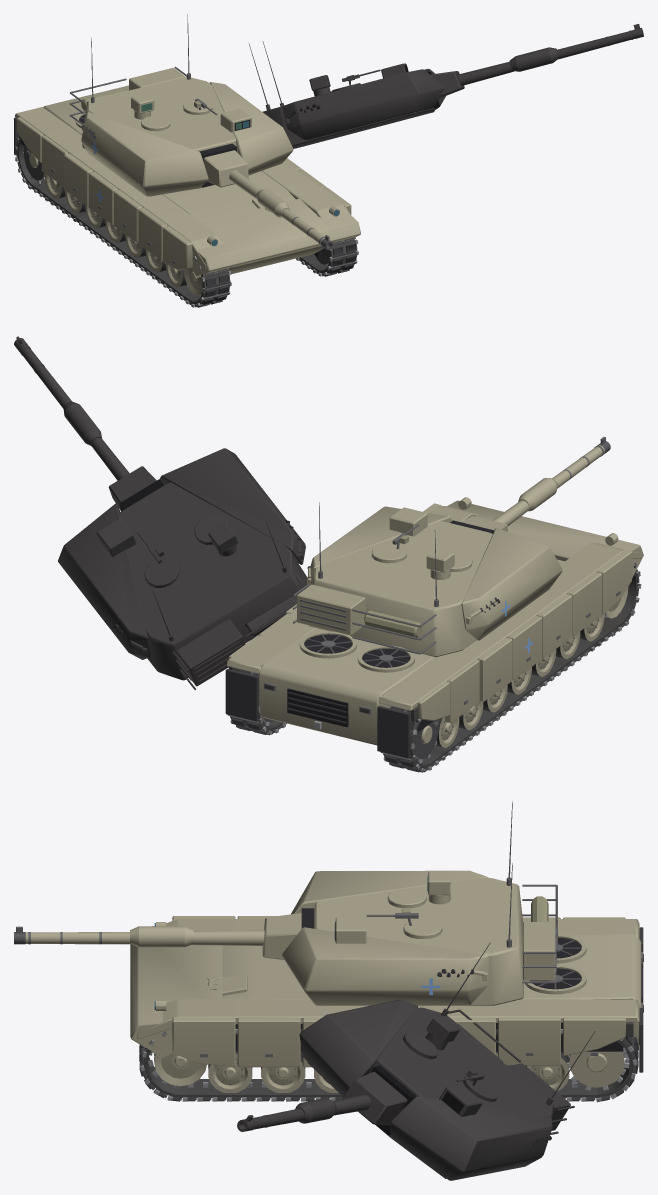
The model's file is tank__leopard_2ri.glb.
The picture shows the model from 3 angles, top to bottom: view 1: azimuth 30°, elevation 25°; view 2: azimuth 150°, elevation 25°; view 3: azimuth 270°, elevation 25°; orthographic projection. The views are drawn at different scales.
Parts seen in each view (by area): view 1: Hull_Mesh, Turret_Mesh, Wreck, Track_L_Mesh, Gun_Mesh, Track_R_Mesh, Gunner_Sight_Mesh, CITV_Mesh, Sprocket_L_Mesh; view 2: Wreck, Hull_Mesh, Turret_Mesh, Track_L_Mesh, Gun_Mesh, Gunner_Sight_Mesh, Track_R_Mesh, Hatch_Loader_Mesh, CITV_Mesh, Sprocket_L_Mesh; view 3: Hull_Mesh, Wreck, Turret_Mesh, Gun_Mesh, Track_R_Mesh, Sprocket_R_Mesh, Idler_R_Mesh, Wheel_R6_Mesh, Wheel_R5_Mesh, Hatch_Loader_Mesh, Gunner_Sight_Mesh, Wheel_R0_Mesh (+2 smaller).
Boxes of the visible parts, x1=… form: Hull_Mesh: x1=14, y1=85, x2=360, y2=277; Turret_Mesh: x1=69, y1=66, x2=293, y2=196; Wreck: x1=15, y1=24, x2=643, y2=307; Track_L_Mesh: x1=14, y1=136, x2=231, y2=307; Gun_Mesh: x1=204, y1=150, x2=333, y2=249; Track_R_Mesh: x1=296, y1=237, x2=358, y2=276; Gunner_Sight_Mesh: x1=220, y1=108, x2=251, y2=132; CITV_Mesh: x1=131, y1=94, x2=154, y2=119; Sprocket_L_Mesh: x1=23, y1=146, x2=45, y2=183; Wreck: x1=14, y1=336, x2=640, y2=772; Hull_Mesh: x1=225, y1=497, x2=643, y2=758; Turret_Mesh: x1=293, y1=506, x2=562, y2=657; Track_L_Mesh: x1=380, y1=564, x2=641, y2=772; Gun_Mesh: x1=461, y1=436, x2=610, y2=531; Gunner_Sight_Mesh: x1=389, y1=507, x2=427, y2=536; Track_R_Mesh: x1=227, y1=669, x2=286, y2=734; Hatch_Loader_Mesh: x1=371, y1=524, x2=418, y2=563; CITV_Mesh: x1=426, y1=548, x2=454, y2=579; Sprocket_L_Mesh: x1=415, y1=719, x2=438, y2=763; Hull_Mesh: x1=130, y1=916, x2=643, y2=1072; Wreck: x1=140, y1=942, x2=638, y2=1180; Turret_Mesh: x1=282, y1=870, x2=557, y2=1005; Gun_Mesh: x1=14, y1=913, x2=301, y2=959; Track_R_Mesh: x1=139, y1=1029, x2=638, y2=1101; Sprocket_R_Mesh: x1=567, y1=1047, x2=629, y2=1090; Idler_R_Mesh: x1=154, y1=1053, x2=206, y2=1086; Wheel_R6_Mesh: x1=208, y1=1051, x2=252, y2=1092; Wheel_R5_Mesh: x1=261, y1=1051, x2=305, y2=1092; Hatch_Loader_Mesh: x1=366, y1=909, x2=442, y2=938; Gunner_Sight_Mesh: x1=334, y1=917, x2=366, y2=943; Wheel_R0_Mesh: x1=526, y1=1051, x2=569, y2=1090.
Size of what is drawn, in the model's own units: 11.31 by 3.76 by 9.68.
